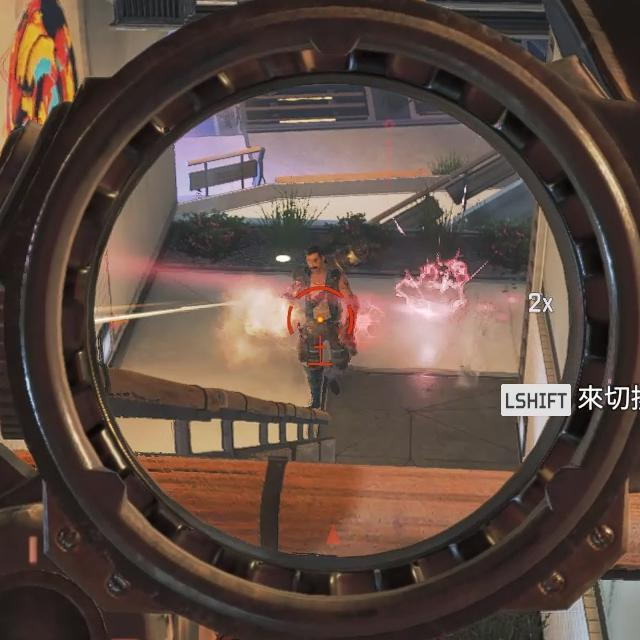avatar: (294, 243, 361, 414)
